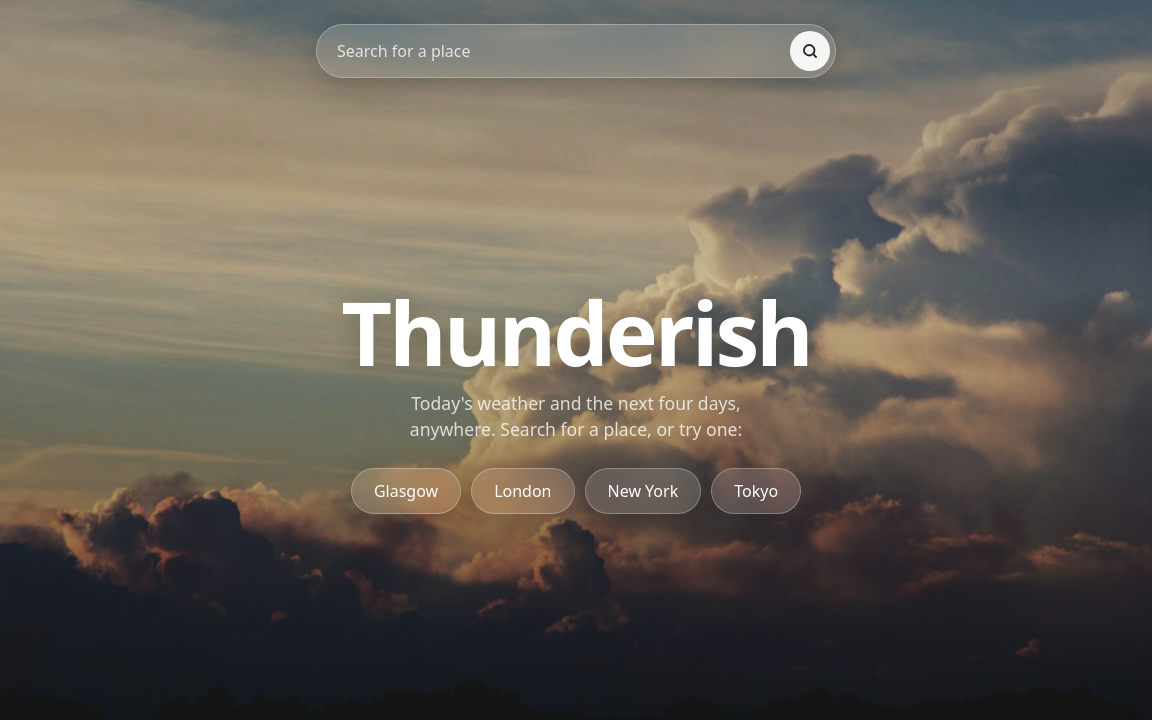
Test case: Thunderish › describes the weather in words as well as the icon
Type "Tokyo" into the search field labelled "Search for a place".
click(560, 51); type("Tokyo")  # box [337,30,784,72]
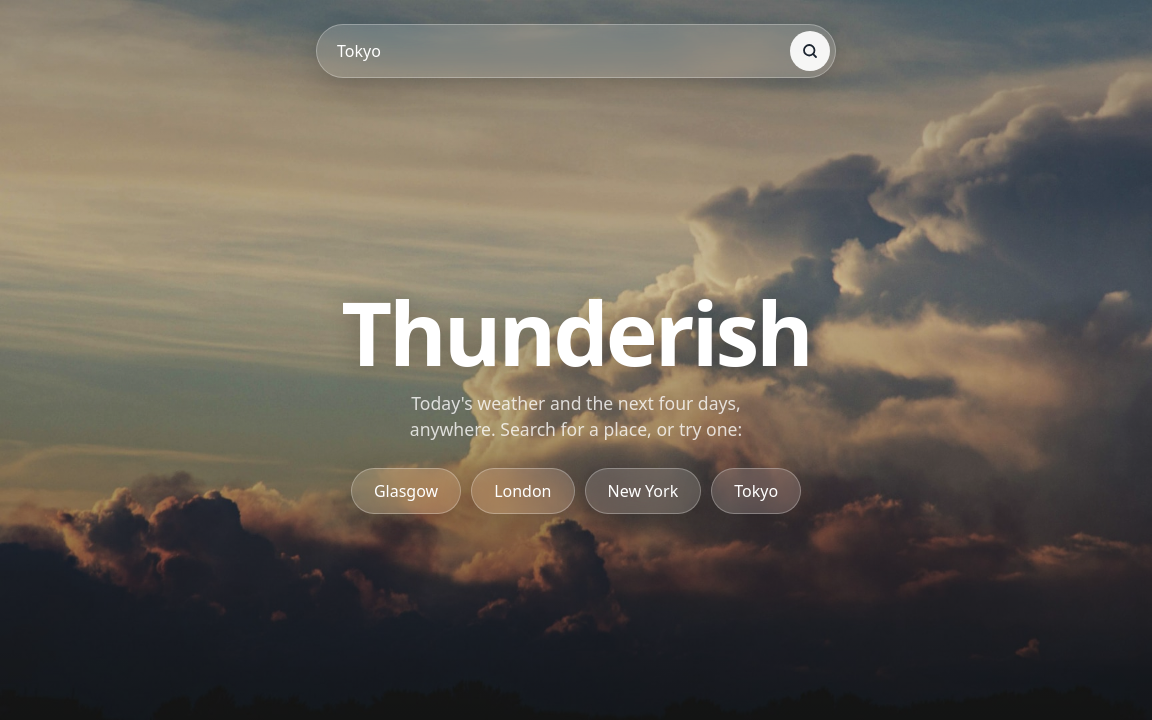
Submit the form named "Search for a place", box [316,24,836,78]
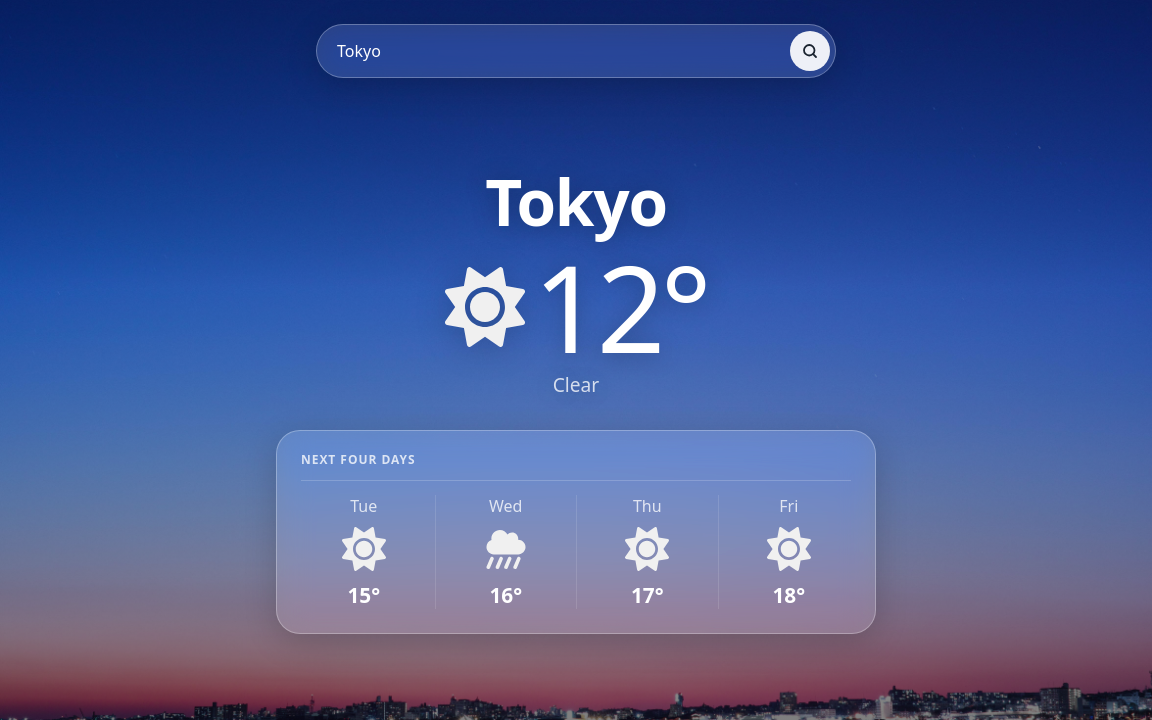
Check: the text "Clear" is shown, box [553,371,599,398]
Check: the text "12°" is shown, box [533,247,707,367]
